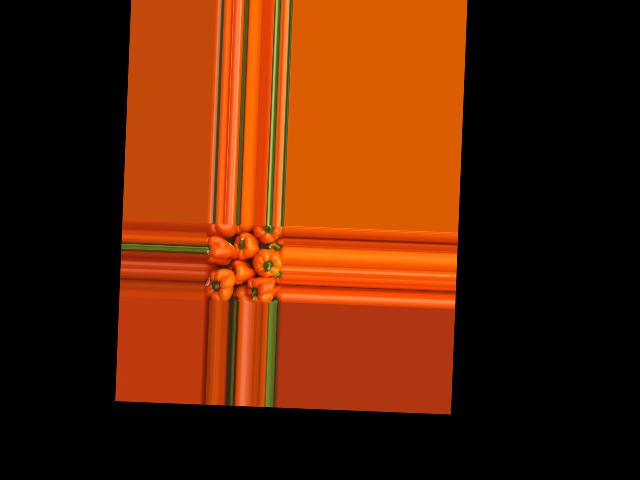bell_pepper: (205, 223, 237, 237)
